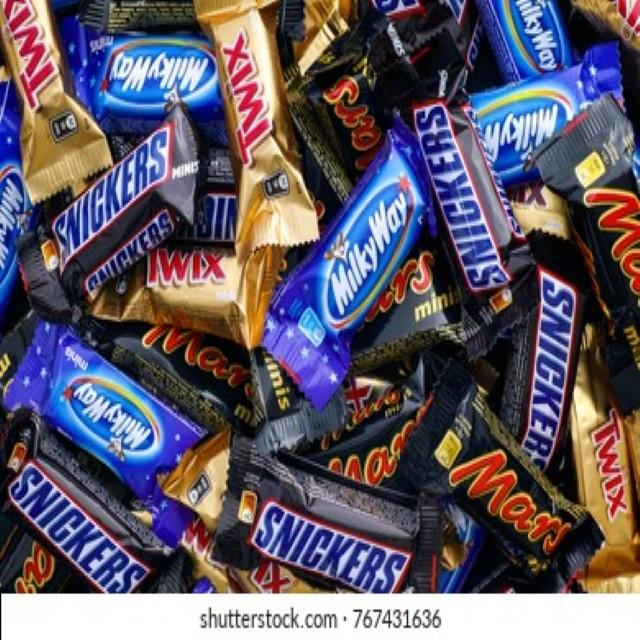mars_chocolate: (452, 412, 580, 576)
snickers_chocolate: (255, 455, 440, 590), (23, 430, 164, 605), (48, 114, 202, 268), (410, 93, 518, 295), (423, 105, 522, 292), (520, 240, 592, 480)
